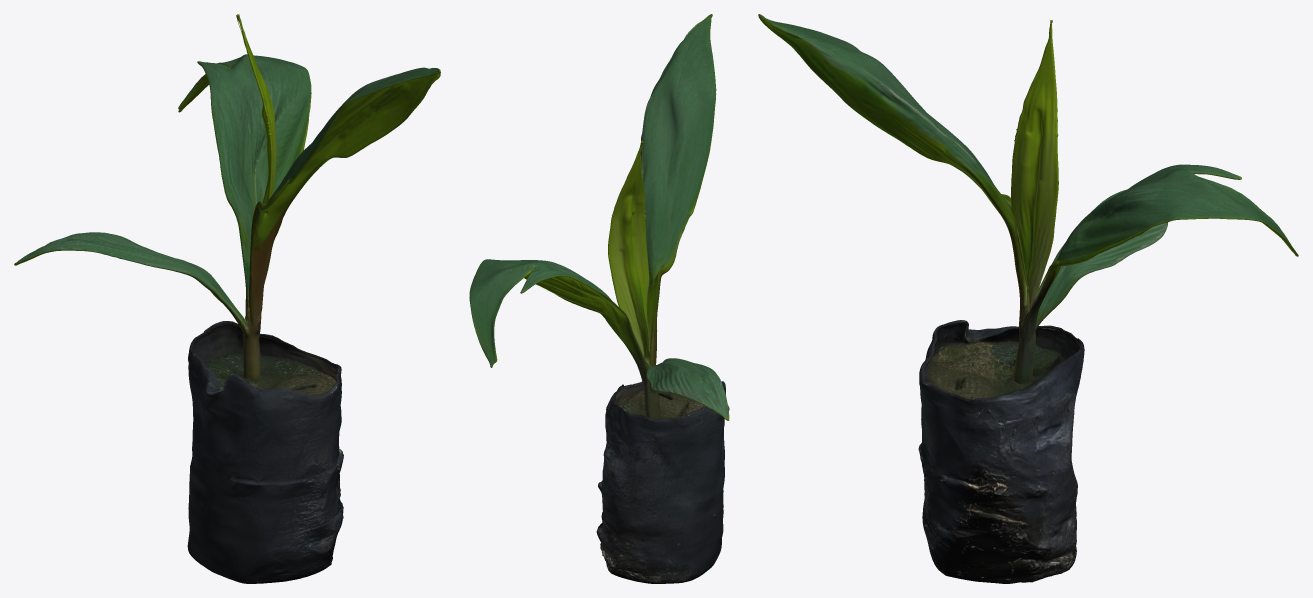
Rendered from bibitsawit3bulan.glb.
3 renders of one model, left to right at view 1: azimuth 30°, elevation 25°; view 2: azimuth 150°, elevation 25°; view 3: azimuth 270°, elevation 25°, orthographic. The views are drawn at different scales.
Parts seen in each view (by area): view 1: tripo_node_4615b977-650c-4243-a406-7e964774f9f2; view 2: tripo_node_4615b977-650c-4243-a406-7e964774f9f2; view 3: tripo_node_4615b977-650c-4243-a406-7e964774f9f2.
Part boxes in pixels (left/top/right/bottom): tripo_node_4615b977-650c-4243-a406-7e964774f9f2: left=14, top=14, right=440, bottom=583; tripo_node_4615b977-650c-4243-a406-7e964774f9f2: left=469, top=14, right=729, bottom=583; tripo_node_4615b977-650c-4243-a406-7e964774f9f2: left=758, top=14, right=1298, bottom=583.
Size of the model in its own units: 0.5407 by 0.9813 by 0.84.
Materials: 1 (1 with a texture image).
